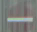No entry: (2, 1, 34, 31)
